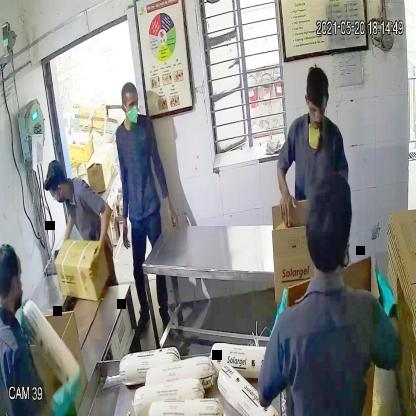goggles: (303, 92, 330, 124)
